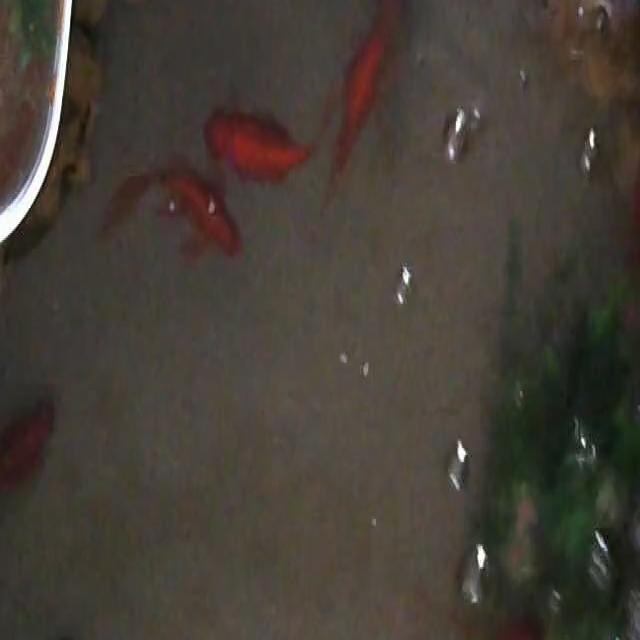fish: (322, 0, 409, 199), (203, 105, 318, 186), (157, 164, 241, 260), (0, 395, 57, 521)
